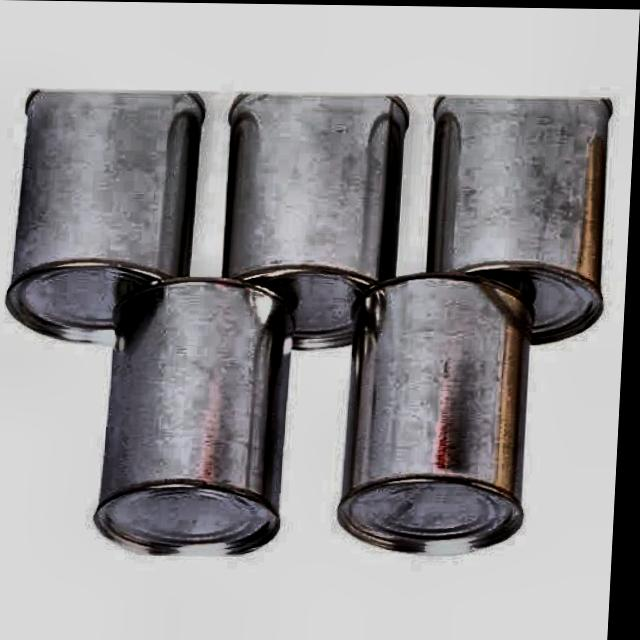can: (336, 269, 548, 564), (93, 274, 305, 568), (3, 86, 216, 358), (415, 85, 626, 353), (217, 85, 418, 357)
